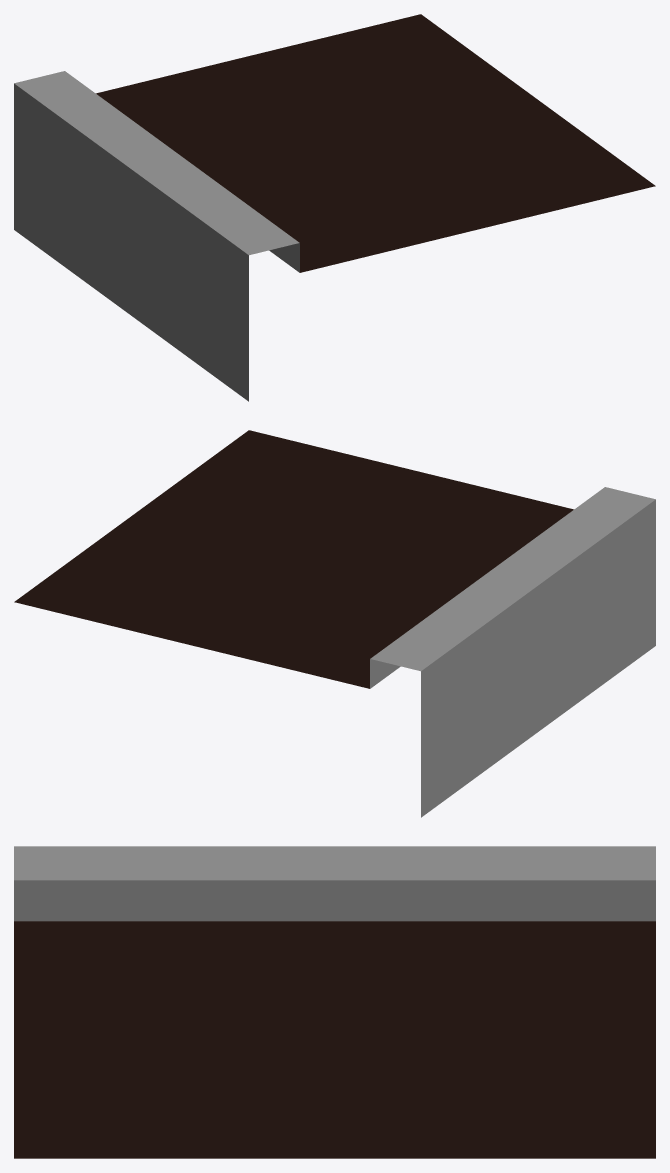
The model's file is Planter_Edge.FBX.
3 renders of one model, top to bottom at view 1: azimuth 30°, elevation 25°; view 2: azimuth 150°, elevation 25°; view 3: azimuth 270°, elevation 25°, orthographic. The views are drawn at different scales.
Parts seen in each view (by area): view 1: Planter_Edge; view 2: Planter_Edge; view 3: Planter_Edge.
Boxes of the visible parts, x1,y1,x2,y2 form: Planter_Edge: [14, 14, 655, 401]; Planter_Edge: [14, 430, 655, 817]; Planter_Edge: [14, 846, 655, 1158].
Bounding box in the file's own units: 12.5 × 4.3 × 12.5.
